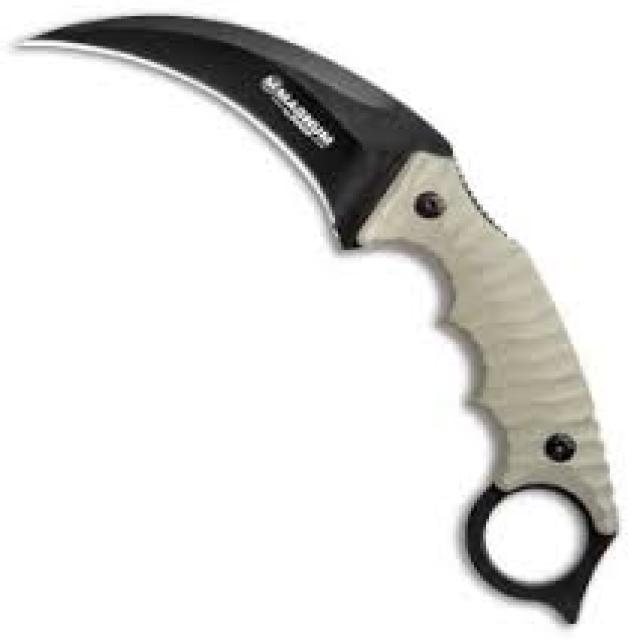knives: (3, 6, 625, 630)
